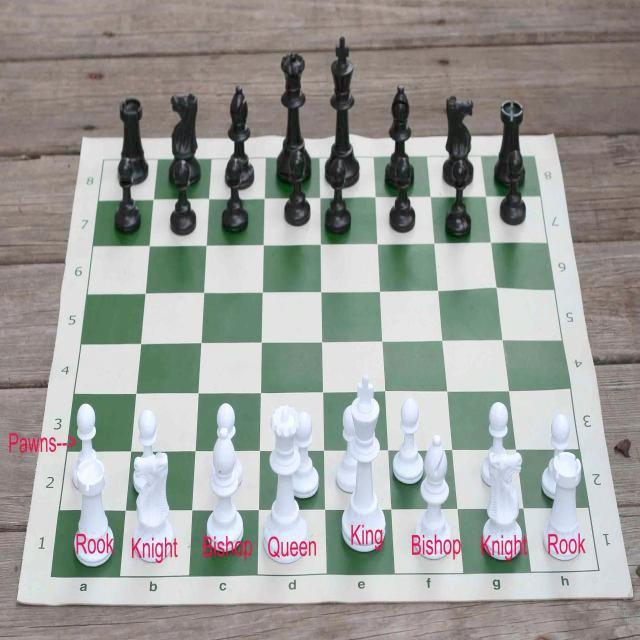chess-table-corners: (36, 552, 66, 598), (586, 554, 614, 594), (89, 142, 112, 176), (524, 146, 544, 173)
